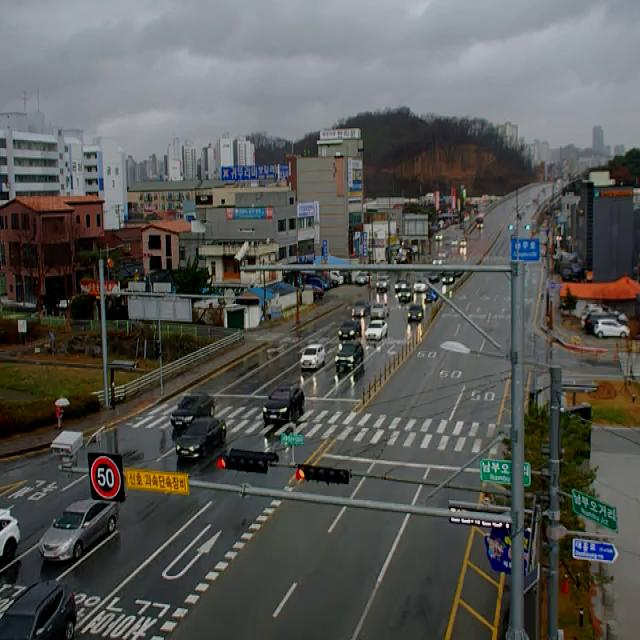Bus: (476, 214, 484, 228)
Car: (39, 500, 119, 561), (0, 580, 77, 640), (176, 418, 226, 458), (263, 382, 305, 422), (171, 393, 215, 428), (581, 305, 629, 328), (0, 508, 20, 558), (585, 310, 627, 332), (335, 341, 364, 371), (594, 319, 630, 339), (301, 344, 325, 370), (365, 320, 388, 341), (338, 322, 362, 341), (408, 305, 424, 323), (352, 301, 370, 317), (398, 288, 414, 304), (371, 304, 389, 318), (376, 276, 390, 292), (395, 279, 410, 292), (356, 272, 372, 284), (442, 272, 455, 286), (414, 280, 428, 292), (428, 272, 441, 284), (439, 249, 448, 258), (433, 257, 442, 265), (460, 238, 467, 246), (451, 240, 458, 247), (435, 235, 443, 241)
